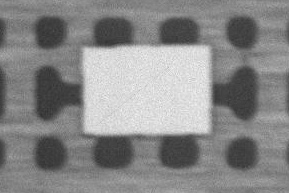DIE_CRACK: (144, 45, 252, 83)
